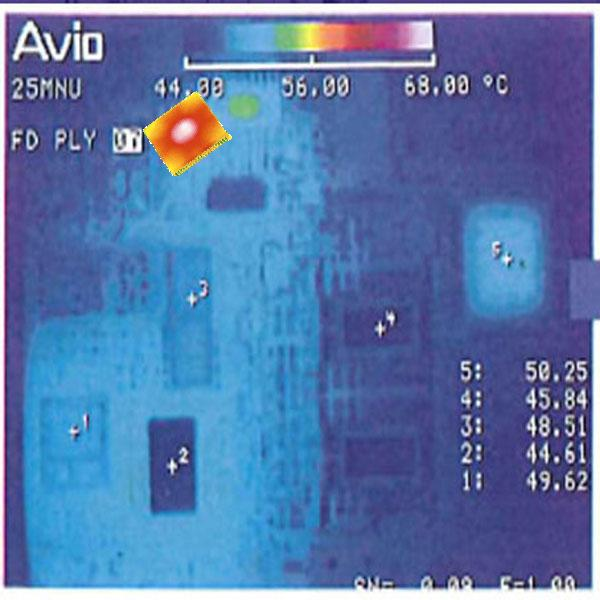componente_T: (137, 88, 235, 178), (283, 21, 351, 51)
